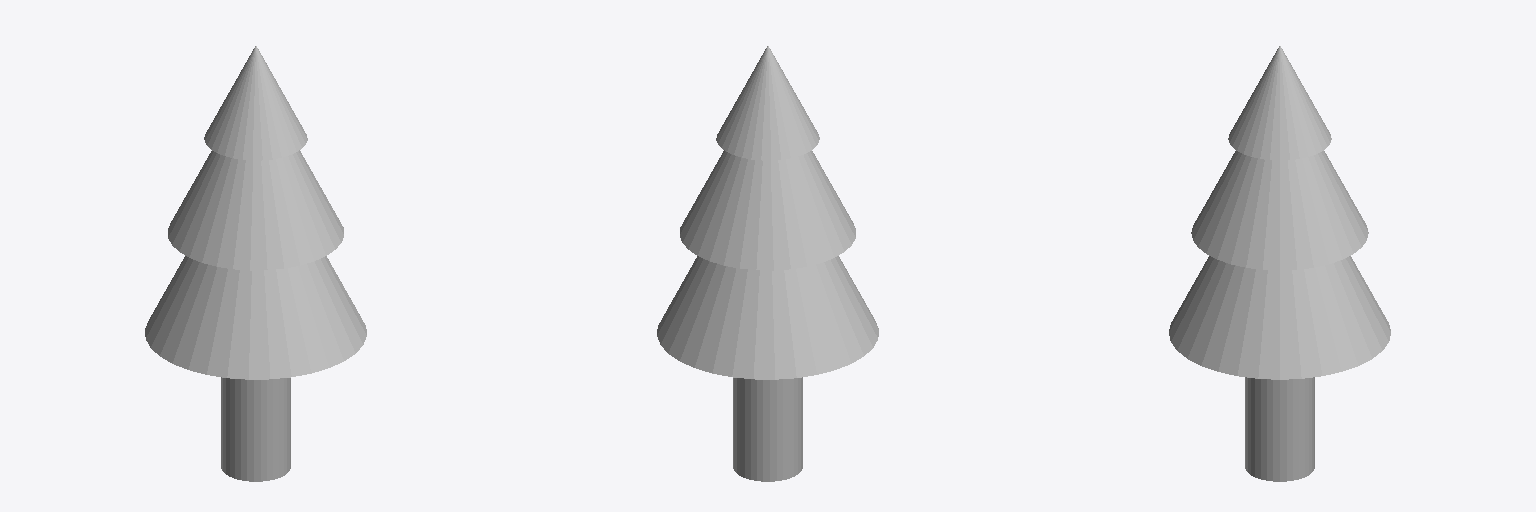
File: _ree.obj
The picture shows the model from 3 angles: view 1: azimuth 30°, elevation 25°; view 2: azimuth 150°, elevation 25°; view 3: azimuth 270°, elevation 25°; orthographic projection.
Parts seen in each view (by area): view 1: 002, 001, tree, 003; view 2: 002, 001, tree, 003; view 3: 002, 001, tree, 003.
Part boxes in pixels (x1,y1,x2,y2): 002: (145,256,366,379); 001: (168,150,343,270); tree: (221,377,290,481); 003: (204,46,307,160); 002: (657,256,878,379); 001: (680,150,855,270); tree: (733,377,802,481); 003: (716,46,819,160); 002: (1169,256,1390,379); 001: (1191,151,1368,270); tree: (1245,377,1314,481); 003: (1228,46,1331,160).
Size of the model in its own units: 3.47 by 7.26 by 3.47.